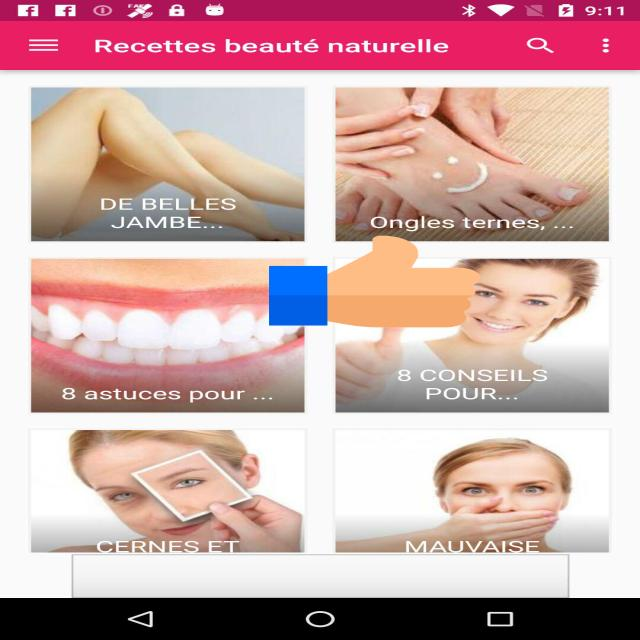privacy zuckering: (269, 233, 480, 330)
